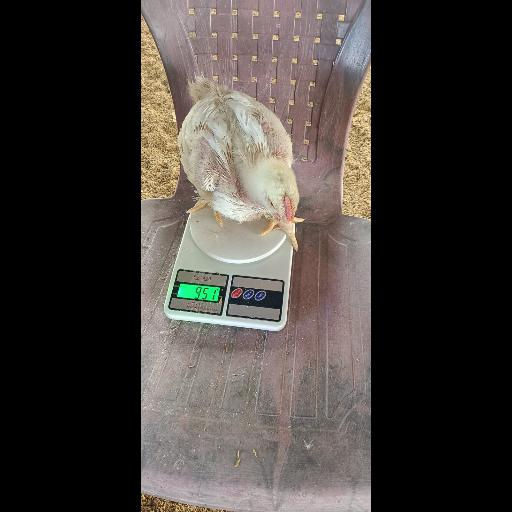chick: (177, 73, 307, 249)
